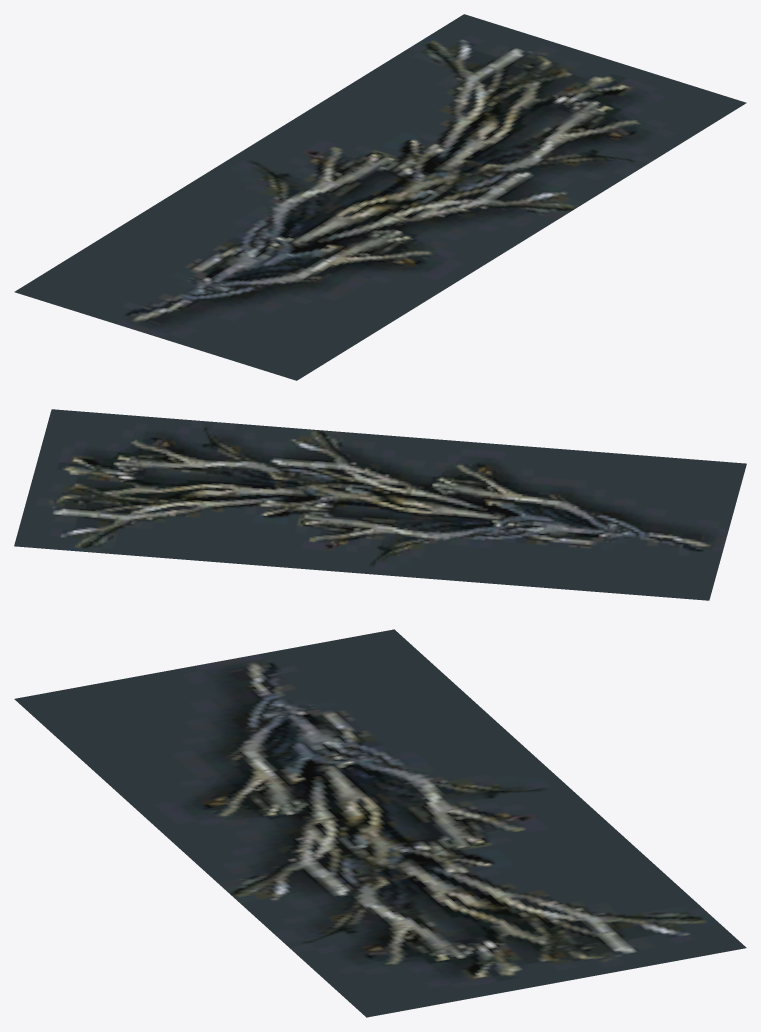
The model's file is shor_seaweed_sm_l1.fbx.
3 views of the same model, one above another, from view 1: azimuth 30°, elevation 25°; view 2: azimuth 150°, elevation 25°; view 3: azimuth 270°, elevation 25° (orthographic). The views are drawn at different scales.
Visible parts, largest first — view 1: mesh_node; view 2: mesh_node; view 3: mesh_node.
Part boxes in pixels (x1=…): mesh_node: x1=14, y1=14, x2=746, y2=380; mesh_node: x1=14, y1=409, x2=746, y2=600; mesh_node: x1=14, y1=629, x2=746, y2=1017.
Bounding box in the file's own units: 1.1 × 0.0321 × 0.8254.
